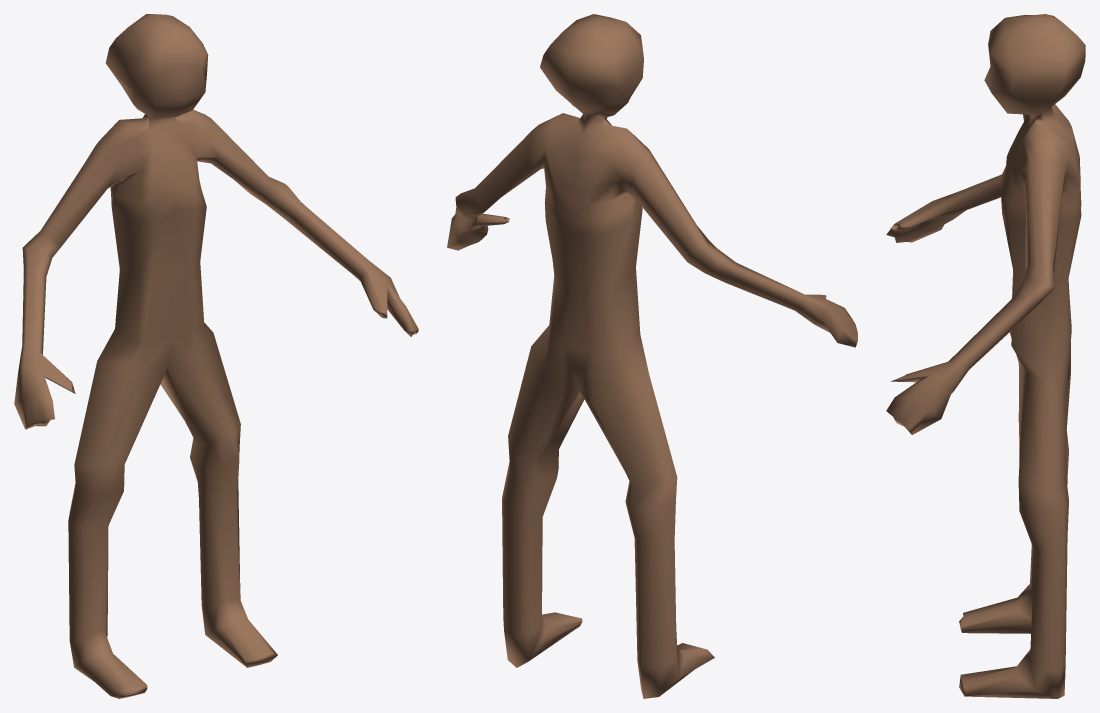
File: Rough_Hir_raw.obj
3 views of the same model, side by side, from view 1: azimuth 30°, elevation 25°; view 2: azimuth 150°, elevation 25°; view 3: azimuth 270°, elevation 25° (orthographic).
Parts seen in each view (by area): view 1: verylowpoly.obj; view 2: verylowpoly.obj; view 3: verylowpoly.obj.
Boxes of the visible parts, x1,y1,x2,y2 form: verylowpoly.obj: (14, 14, 418, 698); verylowpoly.obj: (447, 14, 857, 698); verylowpoly.obj: (886, 14, 1085, 698).
Size of the model in its own units: 1.51 by 2.36 by 0.6605.
